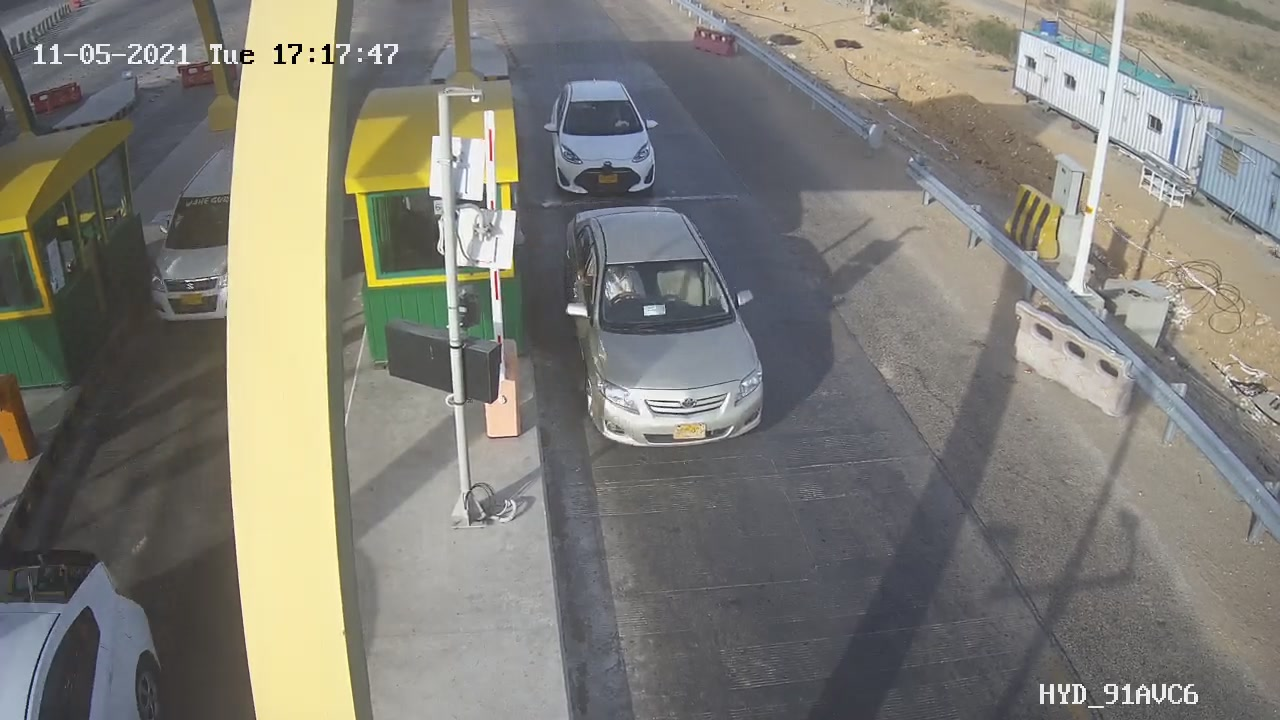F1: (540, 195, 794, 470), (531, 62, 678, 214)
